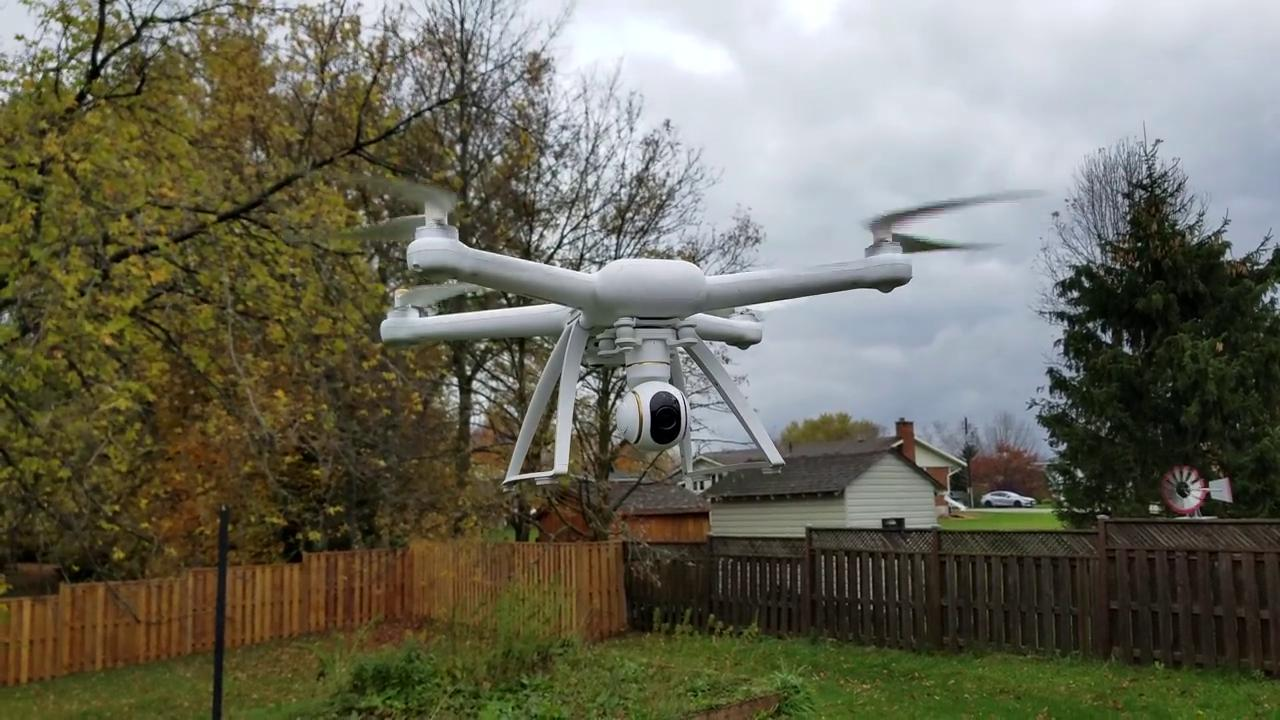drone: (293, 142, 1071, 402)
